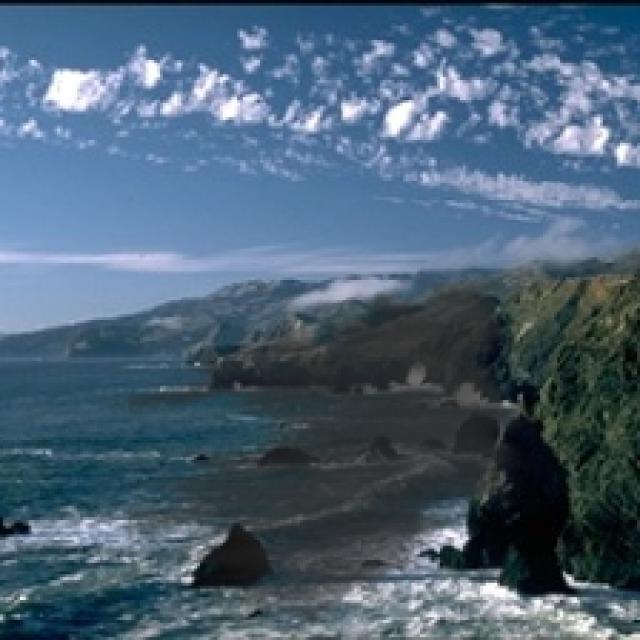smoke: (128, 266, 543, 634)
